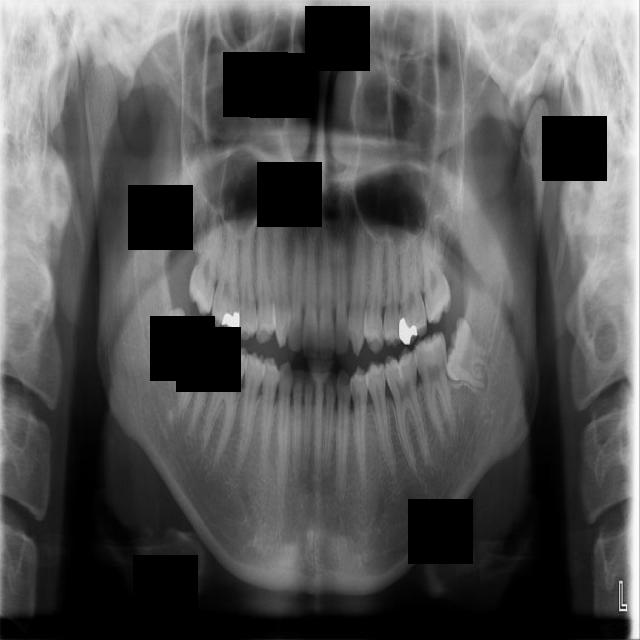52: (378, 344, 429, 398), (205, 336, 254, 390), (209, 286, 244, 336), (398, 295, 428, 348), (242, 351, 267, 390)
73: (576, 568, 582, 581)
BioHorizons Implant: (415, 203, 454, 325)
Biomet 3i Implant: (442, 316, 495, 390)
Blue Sky Bio Implant: (411, 329, 460, 448)
Caries: (185, 191, 227, 317)
Implant: (173, 318, 222, 430)
Keystone Dental Implant: (144, 307, 190, 372)
